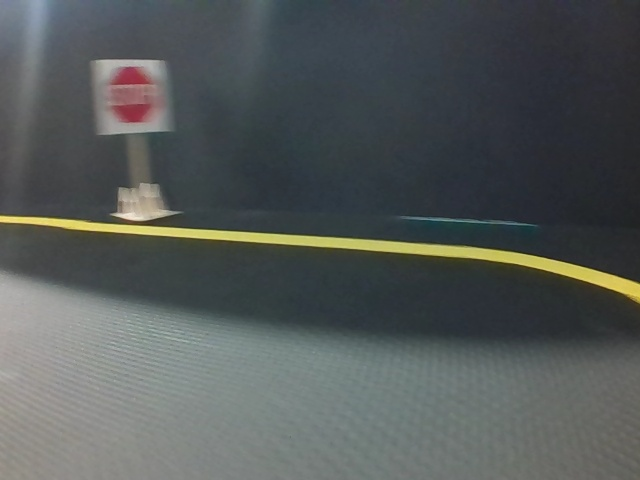stop: (96, 60, 169, 135)
